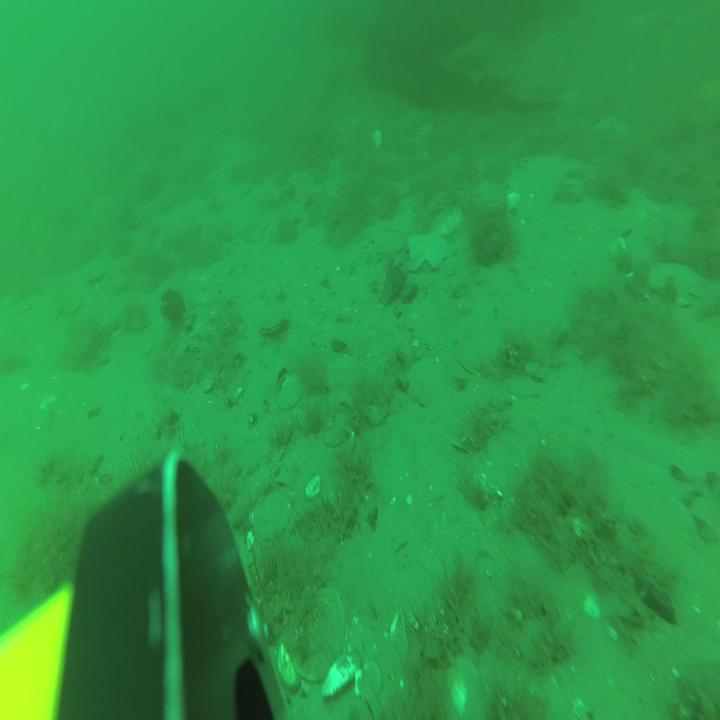scallop: (295, 586, 347, 683), (648, 260, 709, 310), (252, 488, 296, 549), (356, 661, 383, 704), (432, 203, 465, 237), (259, 301, 290, 334), (474, 180, 505, 211), (415, 121, 431, 136), (373, 126, 382, 149)
starfish: (405, 229, 452, 273)
